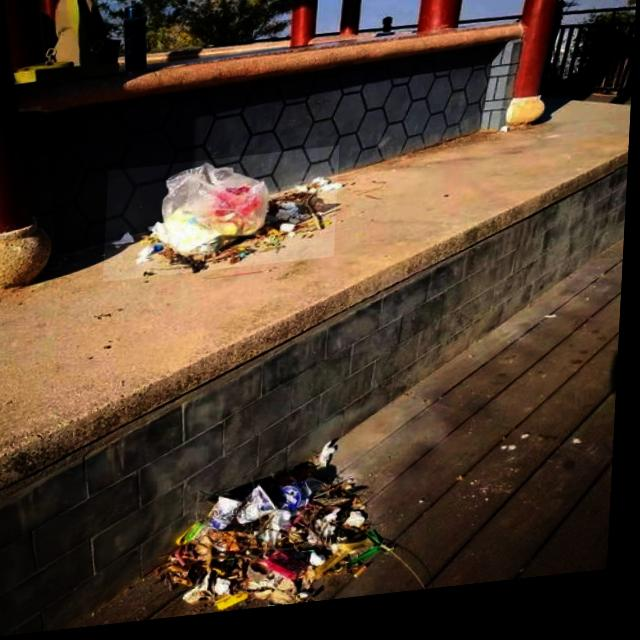garbage: (162, 438, 438, 622), (106, 153, 342, 285)
